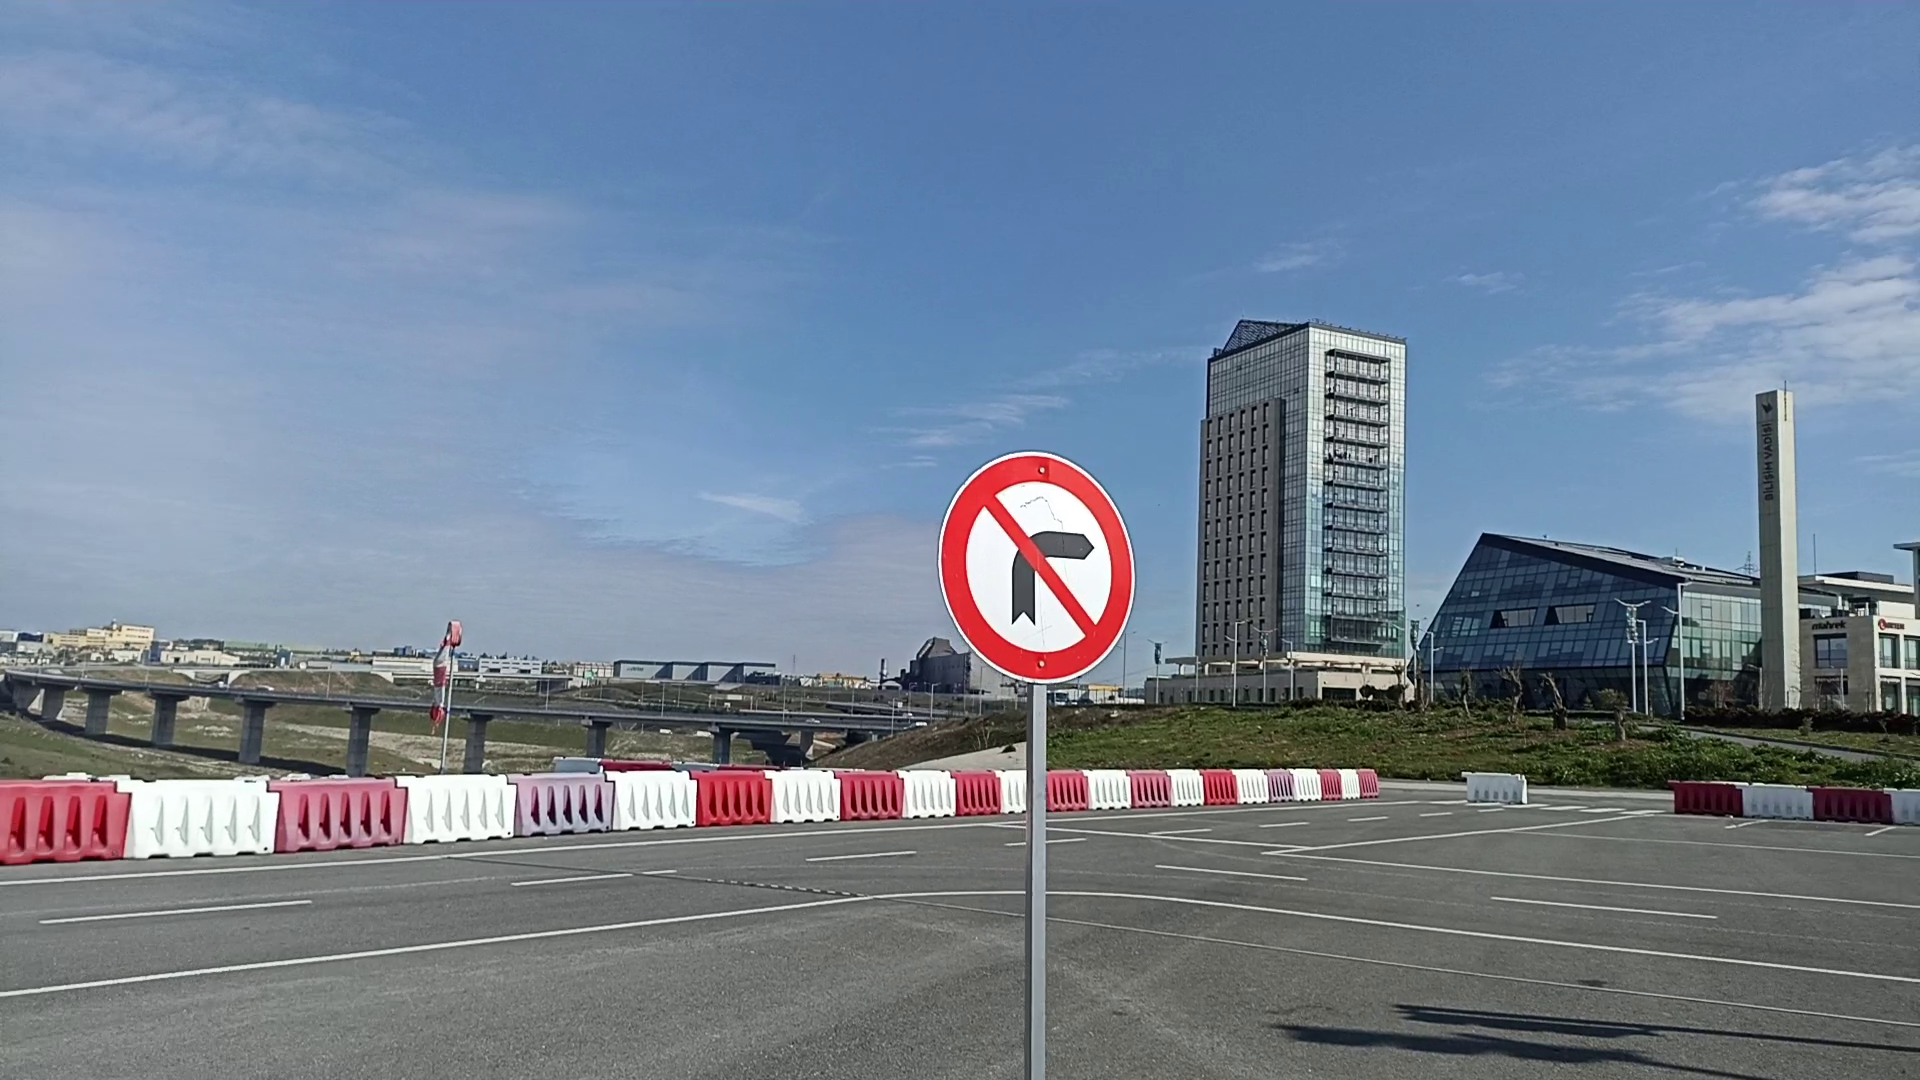noleftturn: (930, 451, 1139, 688)
